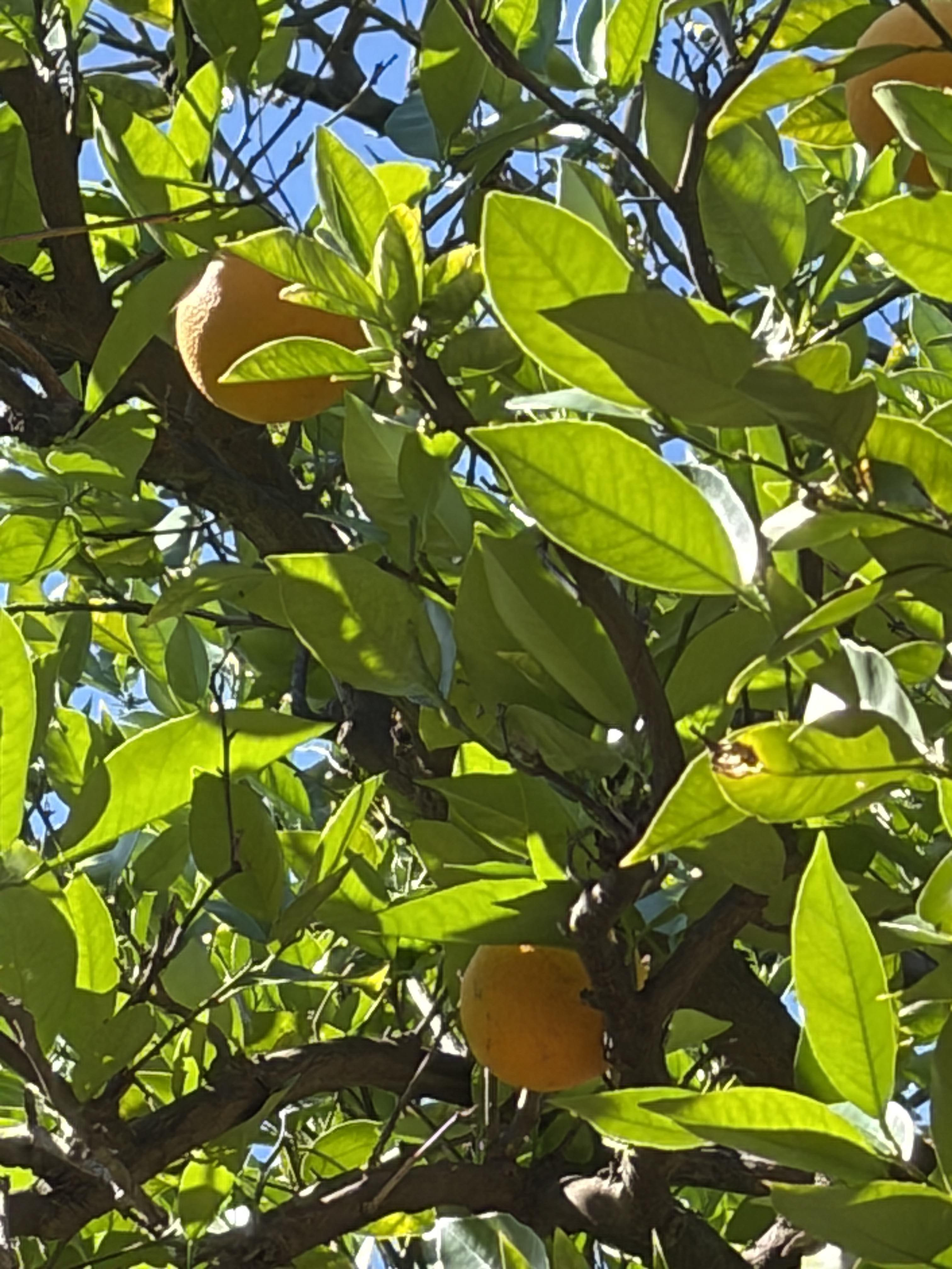orange: (176, 250, 373, 423), (459, 943, 610, 1091), (845, 0, 952, 190)
